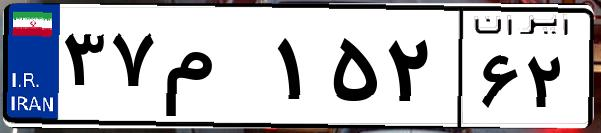1: (270, 28, 330, 110)
2: (385, 28, 445, 110), (525, 38, 570, 115)
3: (57, 26, 110, 100)
5: (330, 28, 385, 110)
6: (475, 38, 525, 113)
7: (110, 28, 158, 98)
م: (158, 20, 270, 120)
